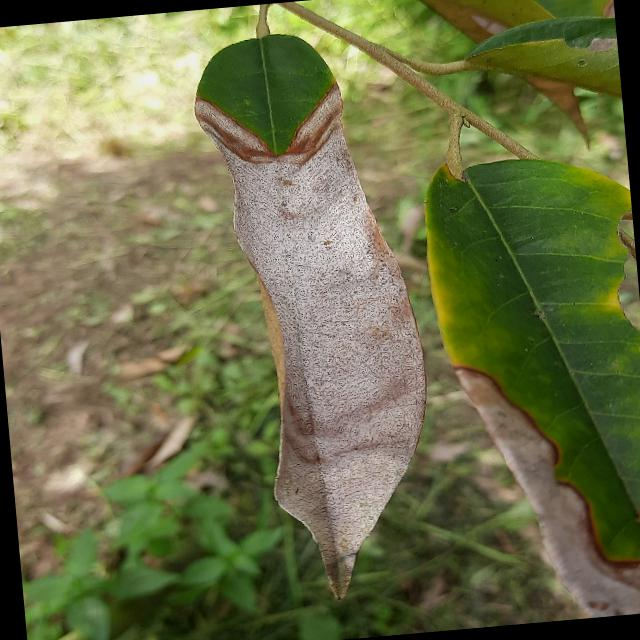Leaf Blight: (184, 21, 451, 616)
